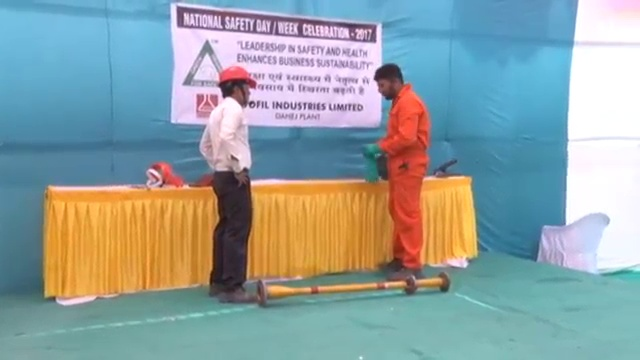helmet: (215, 65, 256, 93)
helmet_off: (374, 63, 407, 98)
helmet_on: (213, 64, 257, 108)
person: (196, 64, 257, 302), (373, 61, 428, 281)
